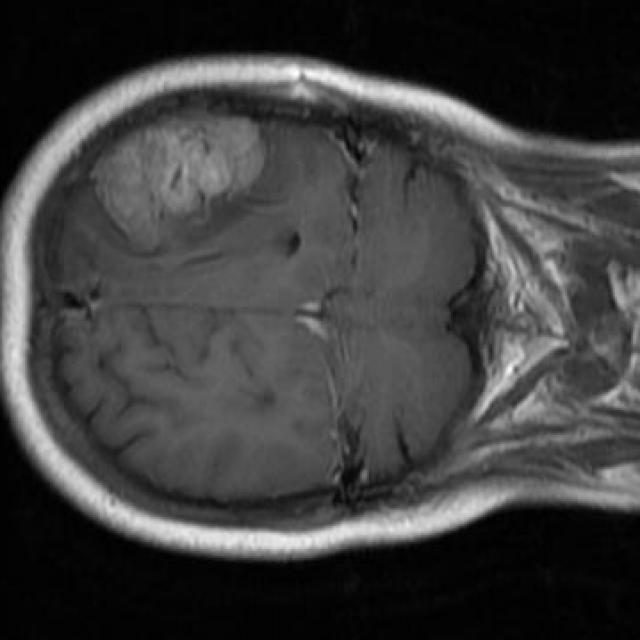meningioma: (89, 119, 264, 253)
